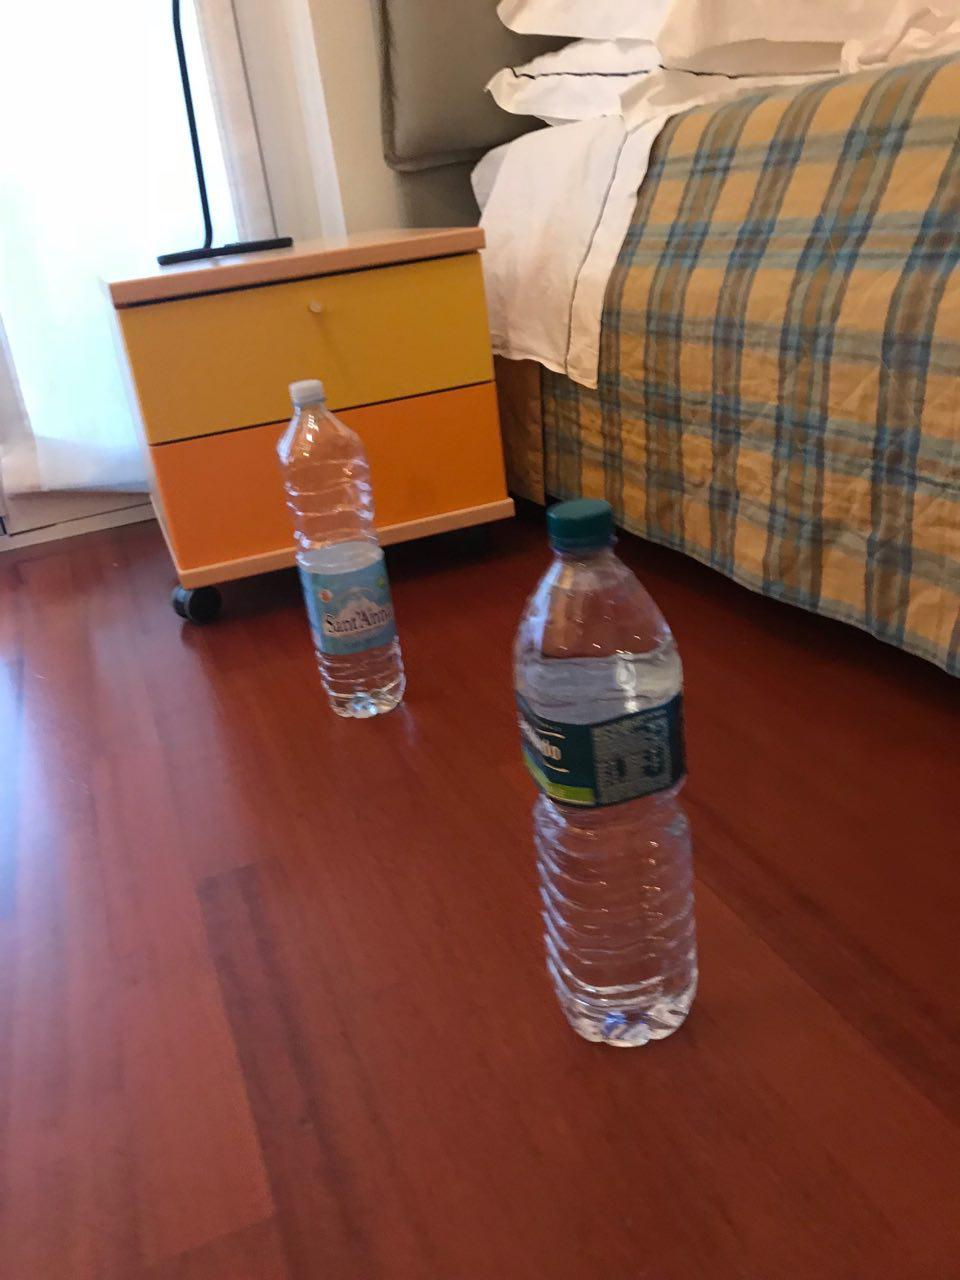san_bernardo: (511, 495, 699, 1052)
